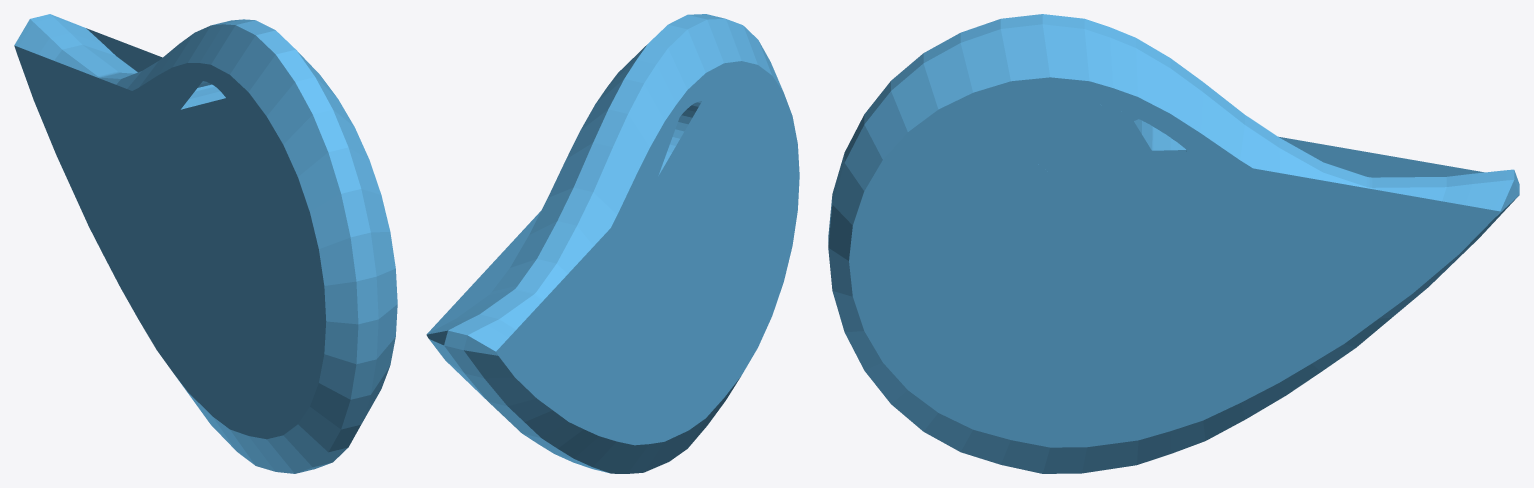
The model's file is Island_fpx.fbx.
The picture shows the model from 3 angles, left to right: view 1: azimuth 30°, elevation 25°; view 2: azimuth 150°, elevation 25°; view 3: azimuth 270°, elevation 25°; orthographic projection. The views are drawn at different scales.
Visible parts, largest first — view 1: island; view 2: island; view 3: island.
Boxes of the visible parts, x1,y1,x2,y2 form: island: (14, 14, 397, 473); island: (426, 14, 799, 473); island: (828, 14, 1519, 473).
Size of the model in its own units: 0.0969 by 0.5574 by 0.7767.
